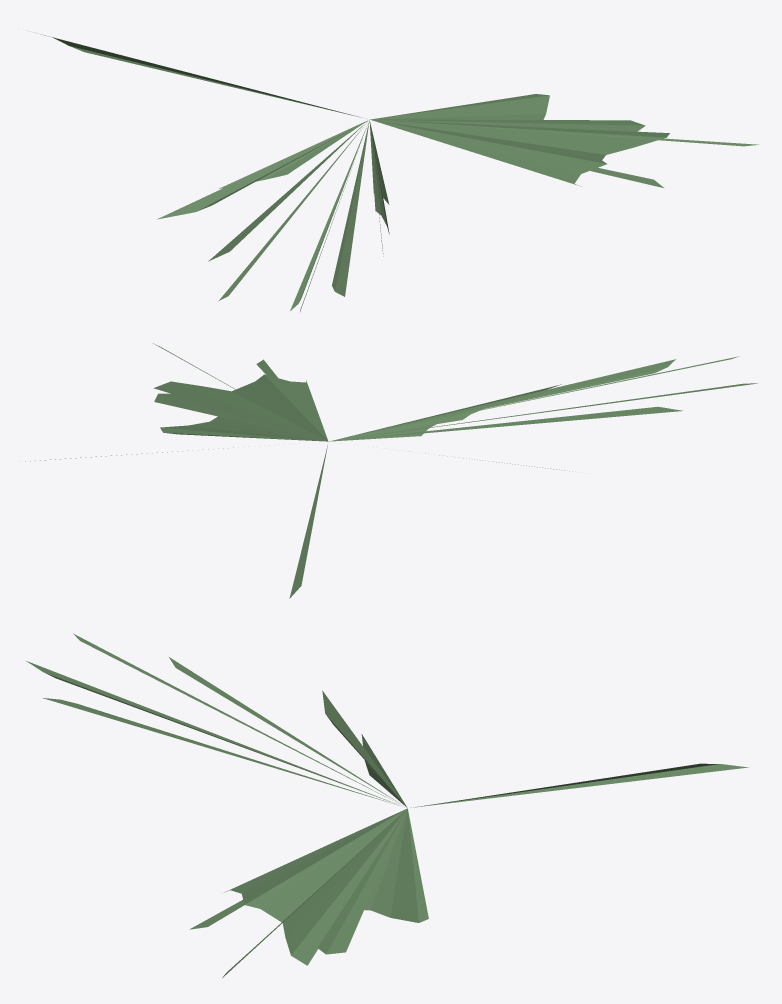
File: c_1672_17830_forest.glb
3 views of the same model, one above another, from view 1: azimuth 30°, elevation 25°; view 2: azimuth 150°, elevation 25°; view 3: azimuth 270°, elevation 25° (orthographic). The views are drawn at different scales.
Visible parts, largest first — view 1: geometry_0; view 2: geometry_0; view 3: geometry_0.
Part boxes in pixels (x1,y1,x2,y2): geometry_0: (35, 32, 758, 311); geometry_0: (25, 343, 757, 598); geometry_0: (26, 633, 748, 978).
Bounding box in the file's own units: 710 × 67.51 × 731.
